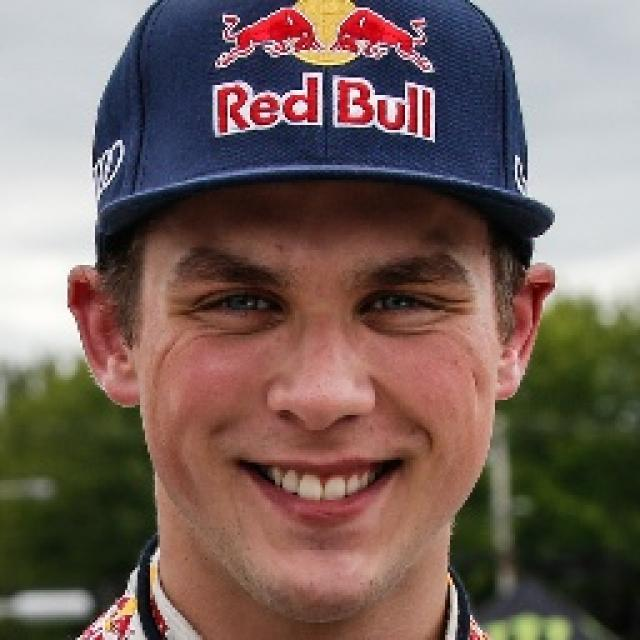earlobe: (66, 264, 140, 408), (495, 262, 556, 403)
